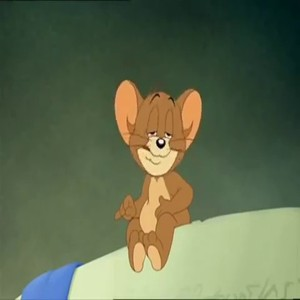Jerry: (109, 69, 204, 279)
